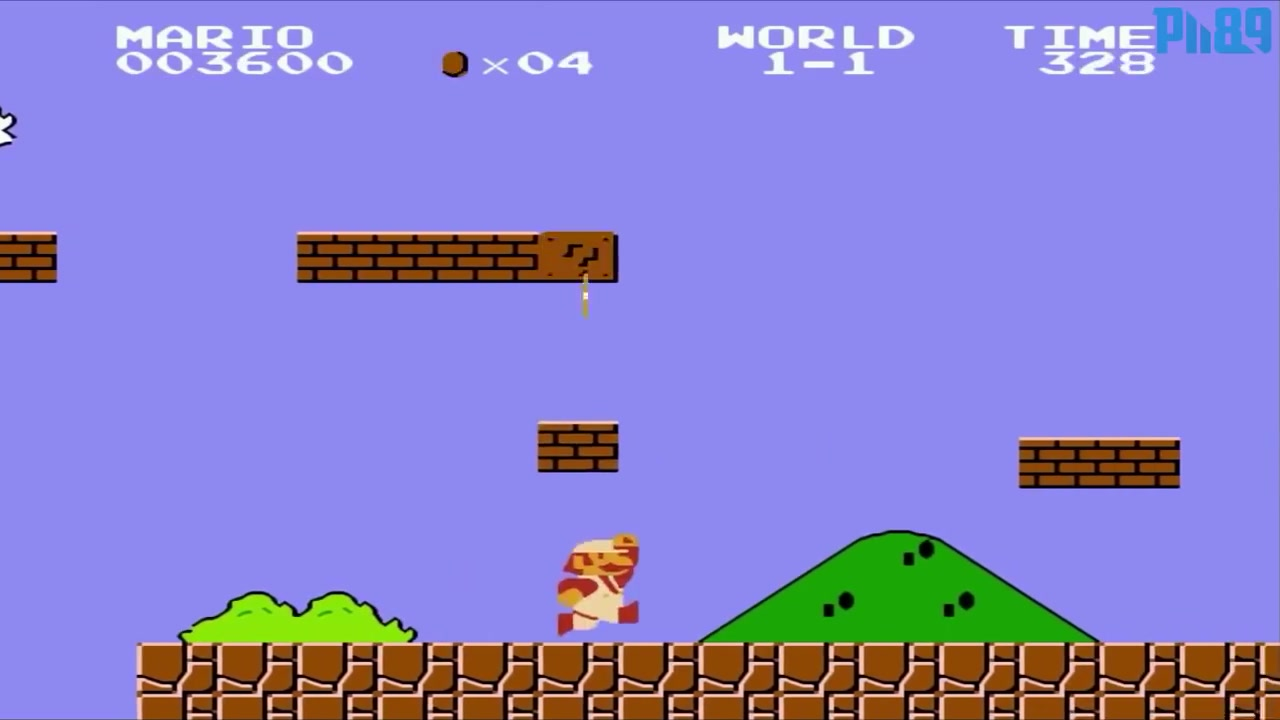mario: (551, 530, 655, 636)
